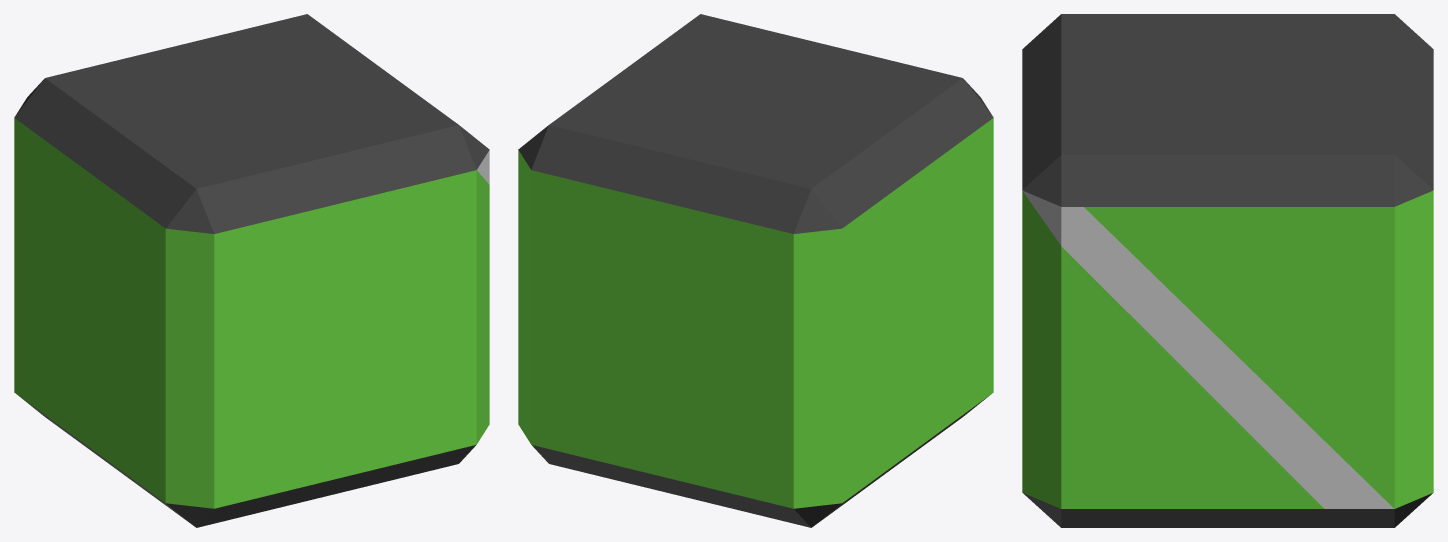
File: BigCase2.fbx
3 views of the same model, side by side, from view 1: azimuth 30°, elevation 25°; view 2: azimuth 150°, elevation 25°; view 3: azimuth 270°, elevation 25° (orthographic). The views are drawn at different scales.
Parts seen in each view (by area): view 1: Cube.034; view 2: Cube.034; view 3: Cube.034.
Boxes of the visible parts, bbox=[...] form: Cube.034: bbox=[14, 14, 489, 527]; Cube.034: bbox=[518, 14, 993, 527]; Cube.034: bbox=[1022, 14, 1433, 527].
Size of the model in its own units: 72.28 by 72.28 by 72.28.
